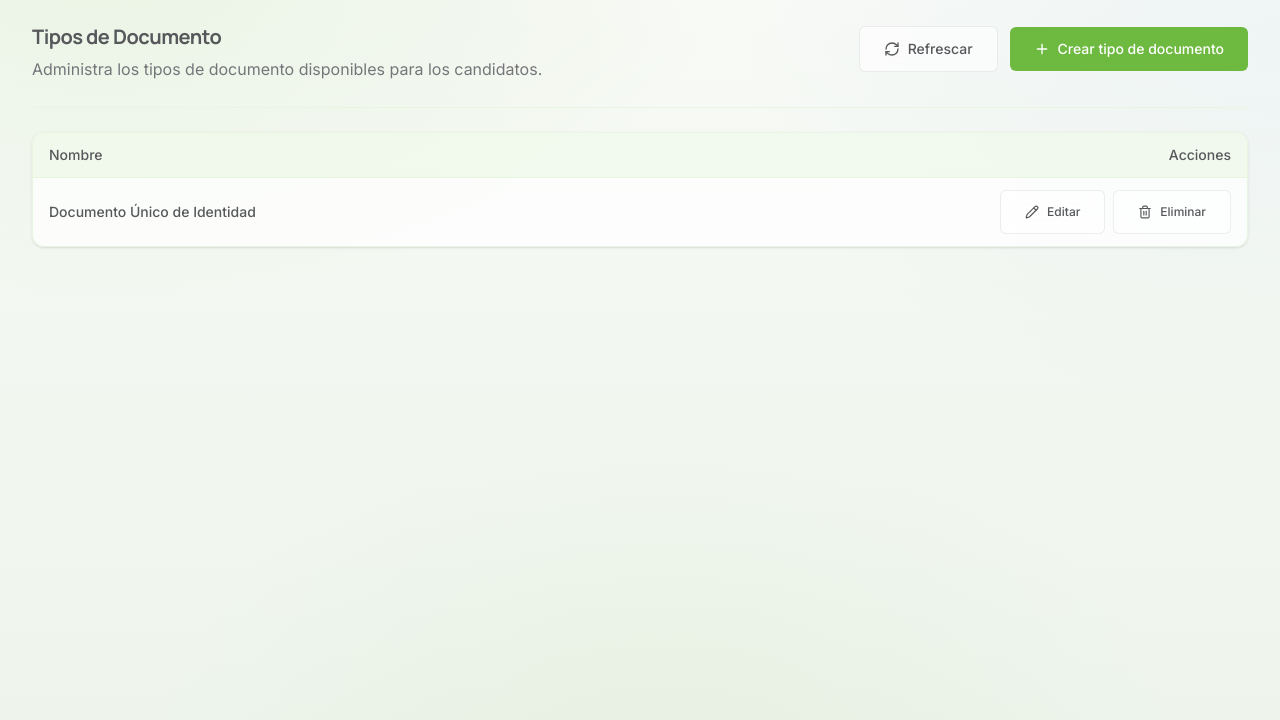
Scenario: AdminIdentityDocumentTypesContent › opens edit from the list row without a search or count bar
The image size is (1280, 720).
Check: the text "Documento Único de Identidad" is shown, box [49,203,256,220]
Step 1. Click the button "Editar" → (1053, 212), box [1000,190,1105,234]
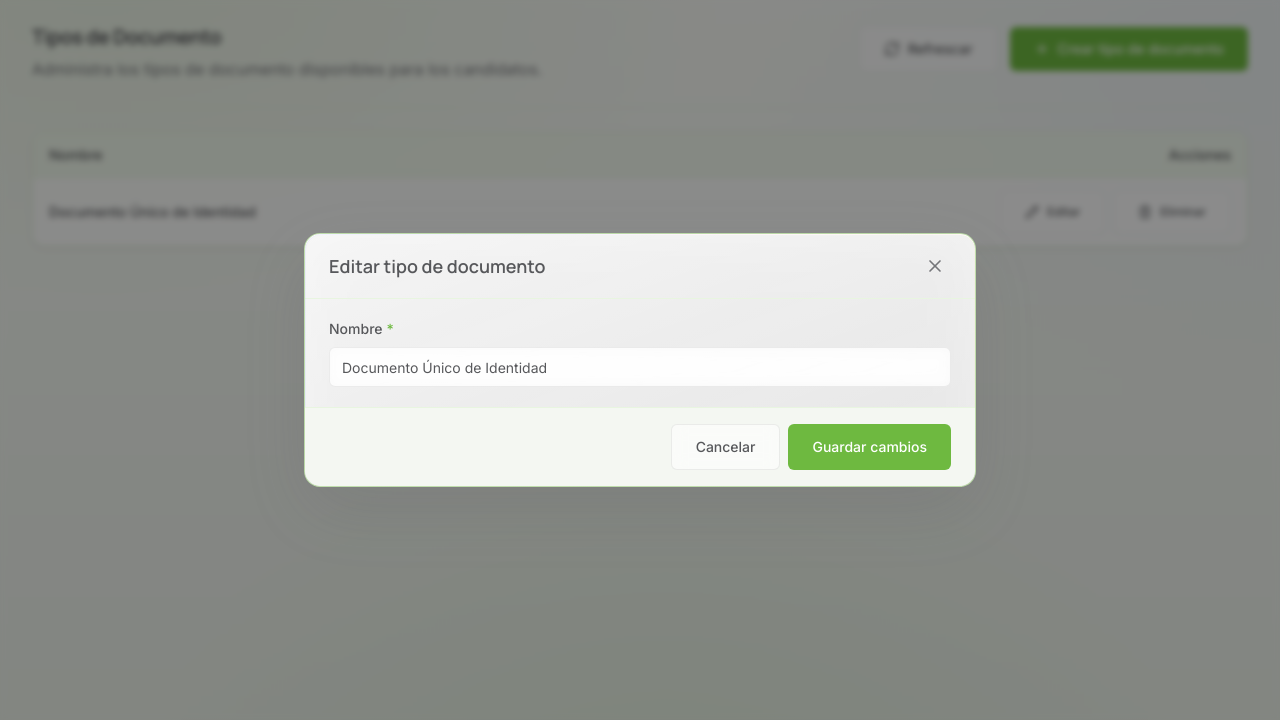
Check: the heading "Editar tipo de documento" is shown, box [329,252,545,280]
Check: the field labelled "Nombre*" holds "Documento Único de Identidad", box [329,347,951,387]
